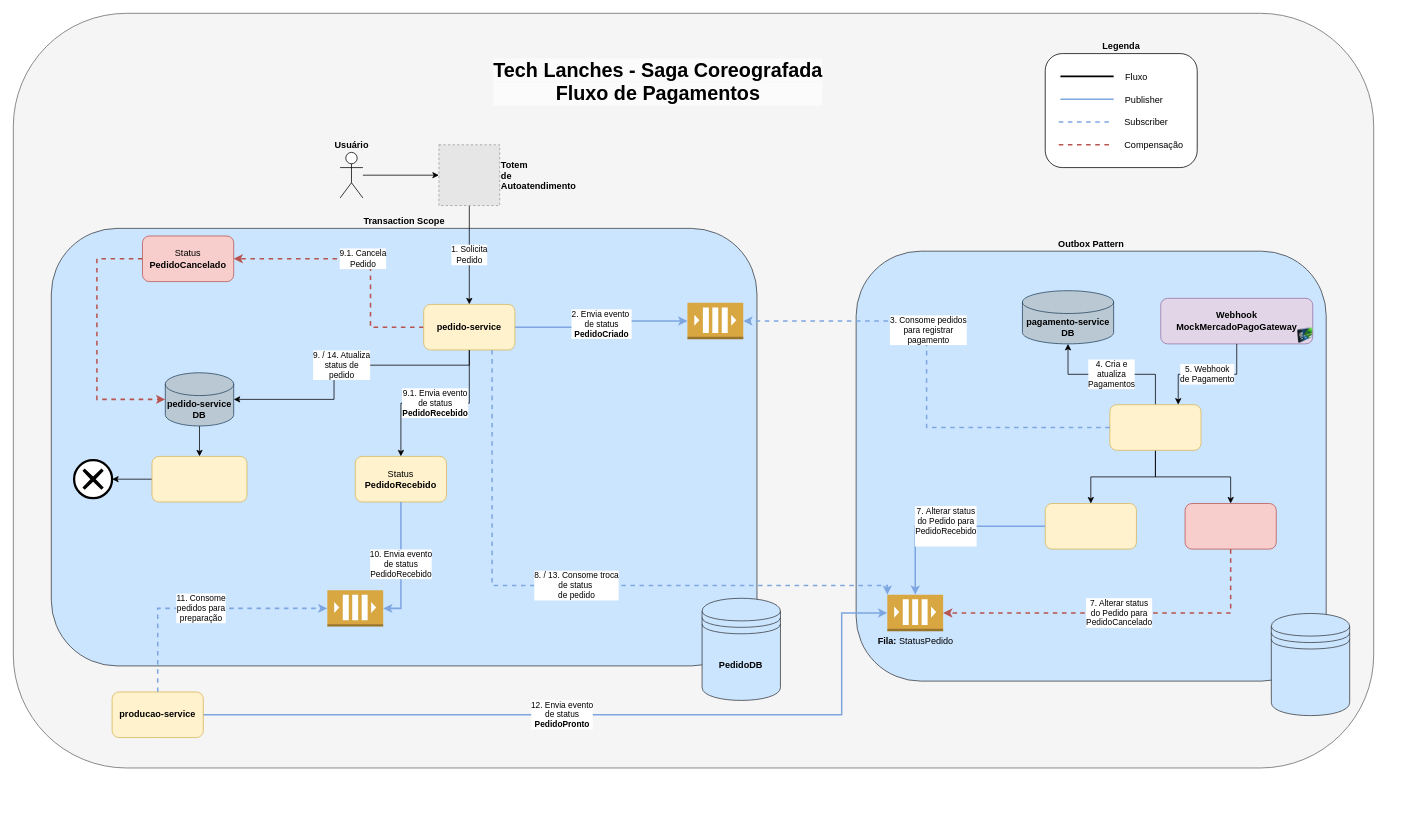
Image size: 1401x834. Some labels were removed from this diagram. Grey dashed boxes stand in for pictures. Here are the shapes that lost their labels. From the top down, the centre of each, then its label:
At pixel 715 320: "Fila: PedidoCriado".
At pixel 1155 427: "pagamento-service".
At pixel 199 479: "14. Pedido Finalizado".
At pixel 1090 526: "6. Pagamento com Sucesso".
At pixel 1230 526: "6. Pagamento Recusado / Falha na Comunicação".
At pixel 355 608: "Fila: FilaPedido".
At pixel 1310 664: "PagamentoDB".
